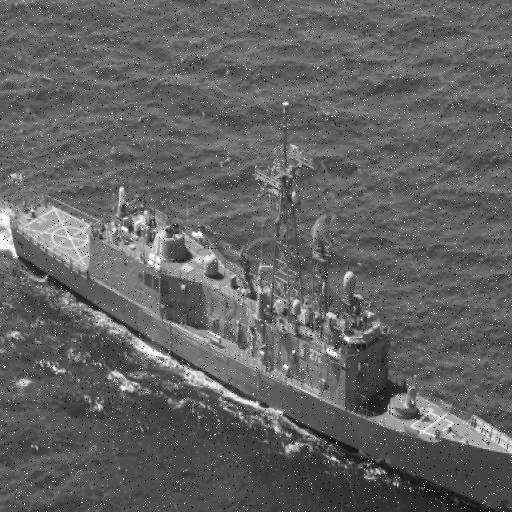Fragata: (9, 102, 512, 512)
